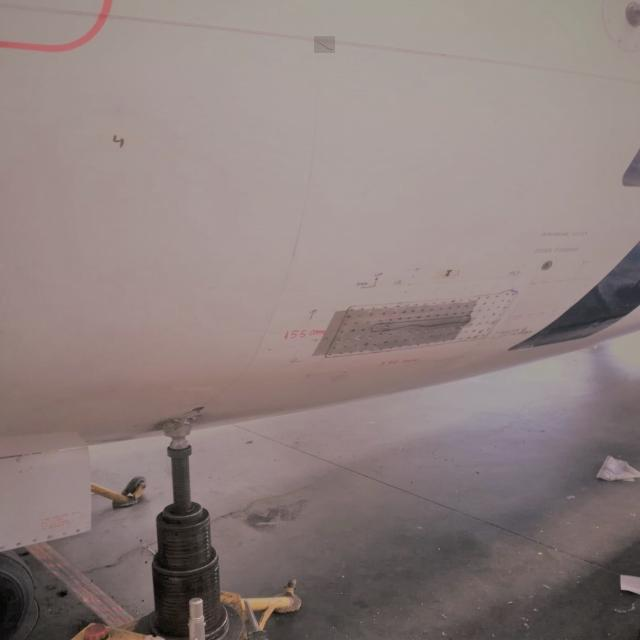crack: (315, 37, 336, 54)
